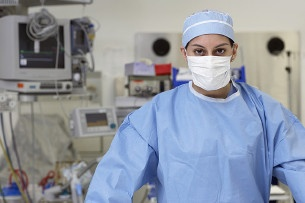Mask: (186, 42, 233, 89)
